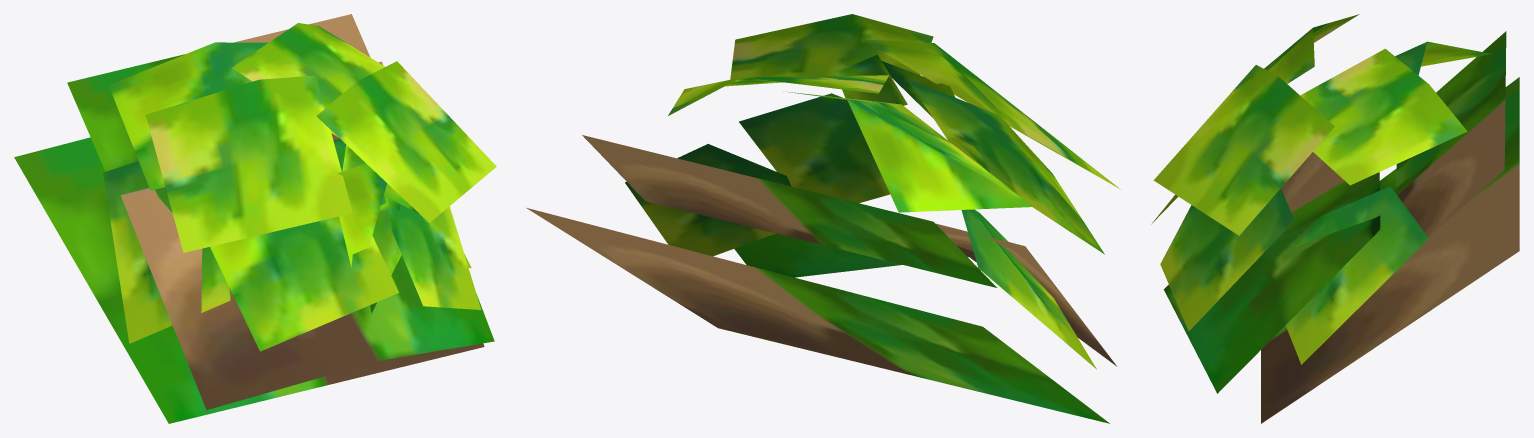
File: fg_bushB_2_wt.dae
3 renders of one model, left to right at view 1: azimuth 30°, elevation 25°; view 2: azimuth 150°, elevation 25°; view 3: azimuth 270°, elevation 25°, orthographic. The views are drawn at different scales.
Parts seen in each view (by area): view 1: fg_bushB_2_wt; view 2: fg_bushB_2_wt; view 3: fg_bushB_2_wt.
Boxes of the visible parts, bbox=[...] form: fg_bushB_2_wt: bbox=[14, 14, 496, 423]; fg_bushB_2_wt: bbox=[526, 14, 1120, 423]; fg_bushB_2_wt: bbox=[1151, 14, 1519, 423].
Bounding box in the file's own units: 43.24 × 33.37 × 37.45.
1 material, 1 textured.
